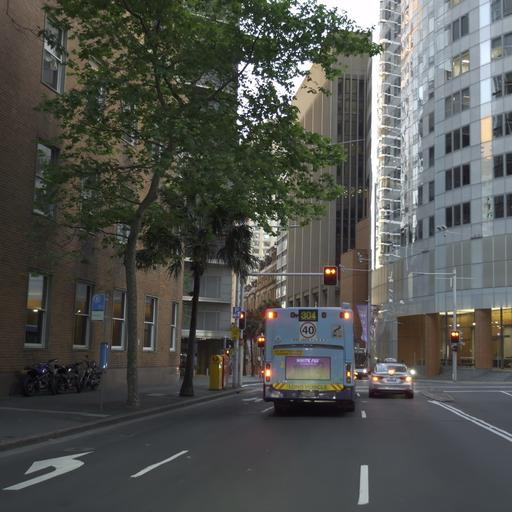Street light: (409, 269, 459, 381), (322, 265, 337, 285), (238, 310, 246, 330)
